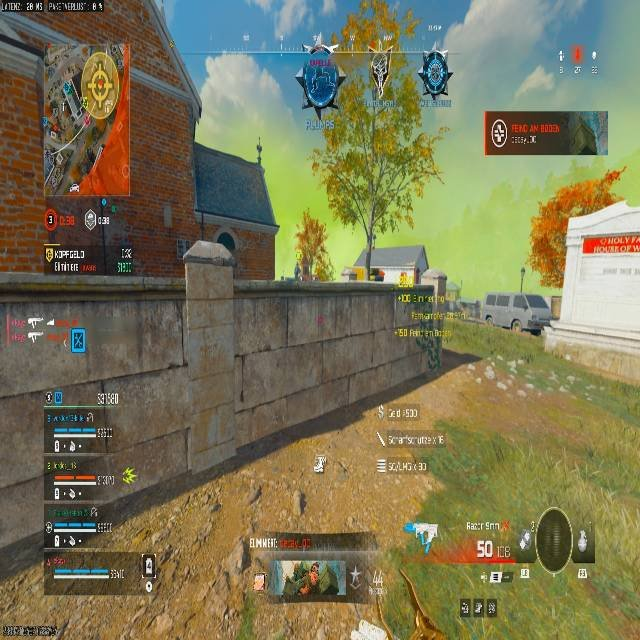player: (295, 44, 342, 120), (416, 48, 451, 102), (368, 55, 389, 101)
